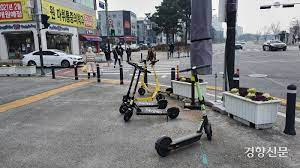kick_body: (168, 134, 205, 147), (136, 108, 169, 114), (136, 101, 157, 106)
kick_handler: (180, 65, 210, 73)
kick_neck: (190, 74, 208, 123), (150, 65, 159, 90)
kick_wheel: (154, 136, 170, 155), (205, 124, 214, 141), (168, 108, 179, 119), (158, 99, 168, 109), (126, 108, 133, 122)
